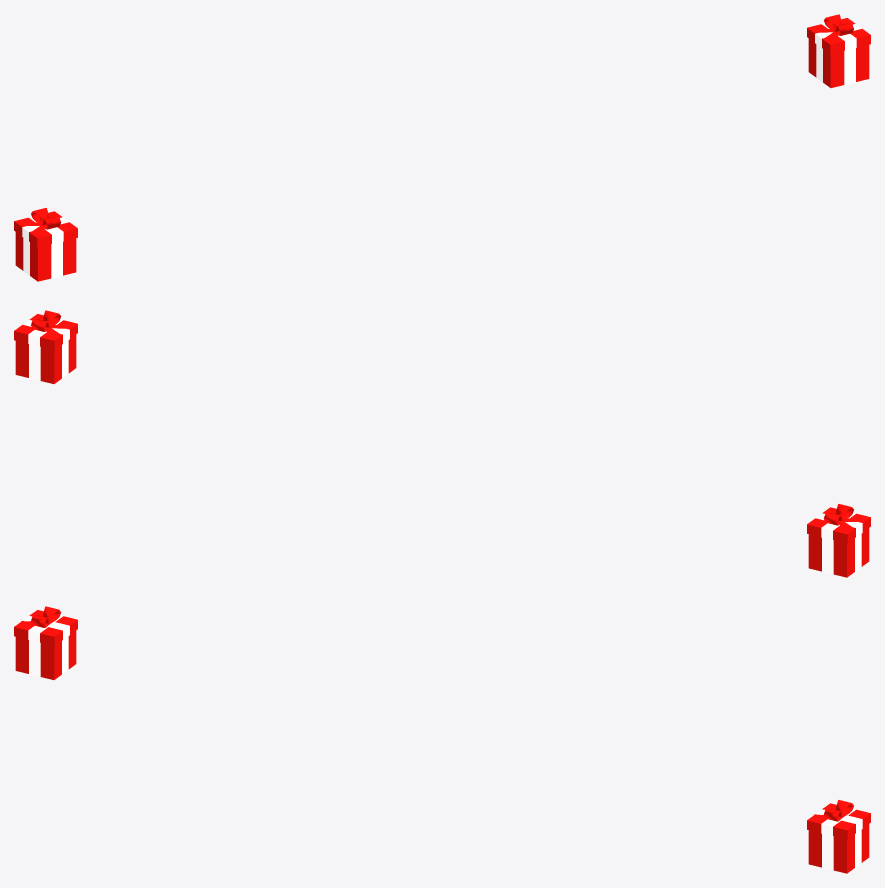
Rendered from HeavenSquareGifts.glb.
The picture shows the model from 3 angles, top to bottom: view 1: azimuth 30°, elevation 25°; view 2: azimuth 150°, elevation 25°; view 3: azimuth 330°, elevation 25°; orthographic projection.
Visible parts, largest first — view 1: Cube.015, Cube.016; view 2: Cube.015, Cube.016; view 3: Cube.015, Cube.016.
Part boxes in pixels (x1=…): Cube.015: x1=807, y1=14, x2=870, y2=87; Cube.016: x1=14, y1=208, x2=77, y2=281; Cube.015: x1=14, y1=310, x2=77, y2=383; Cube.016: x1=807, y1=504, x2=870, y2=577; Cube.015: x1=807, y1=800, x2=870, y2=873; Cube.016: x1=14, y1=606, x2=77, y2=679.
Bounding box in the file's own units: 12.61 × 0.796 × 0.617.
